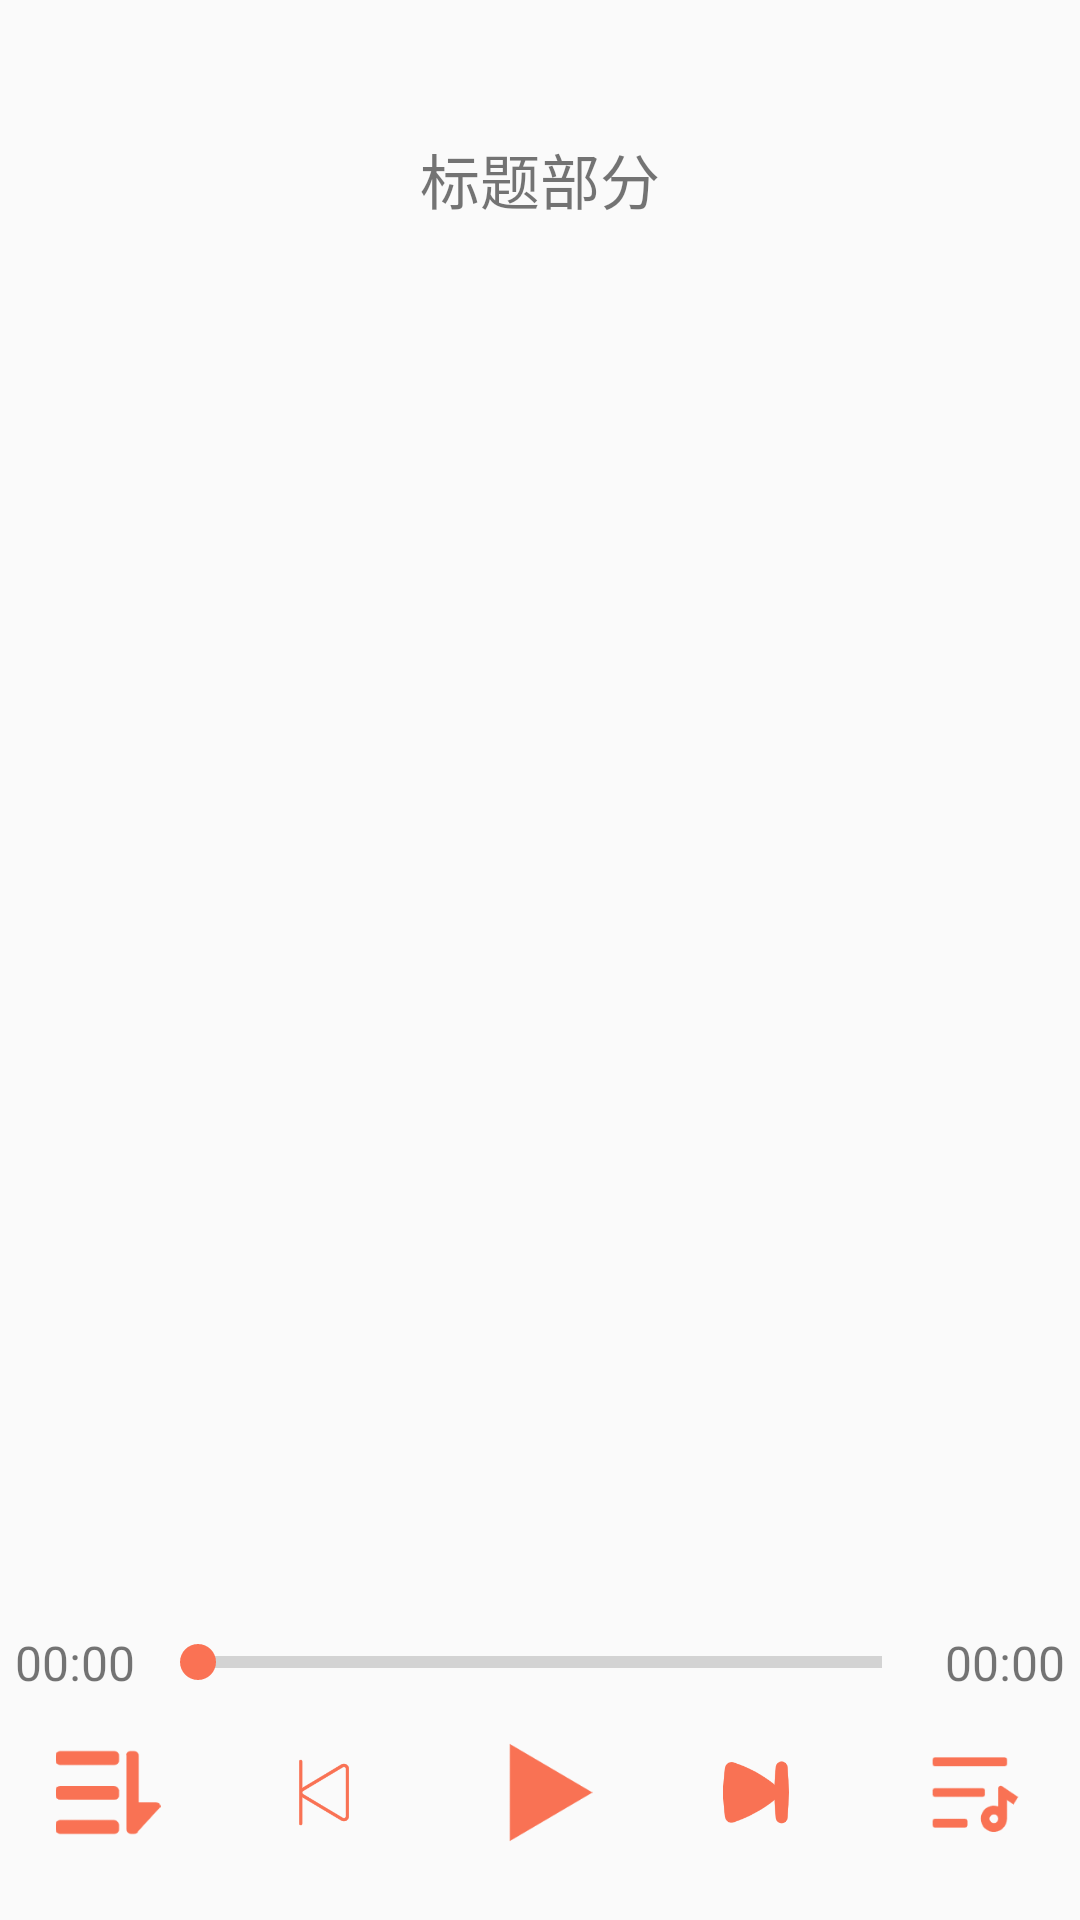

Locate icon controls on the screen. Image size 1080*1920, boxes as (x1, y1, x2, y2).
player next: (723, 1761, 789, 1824)
player pre: (299, 1760, 349, 1826)
playsound: (509, 1744, 593, 1841)
